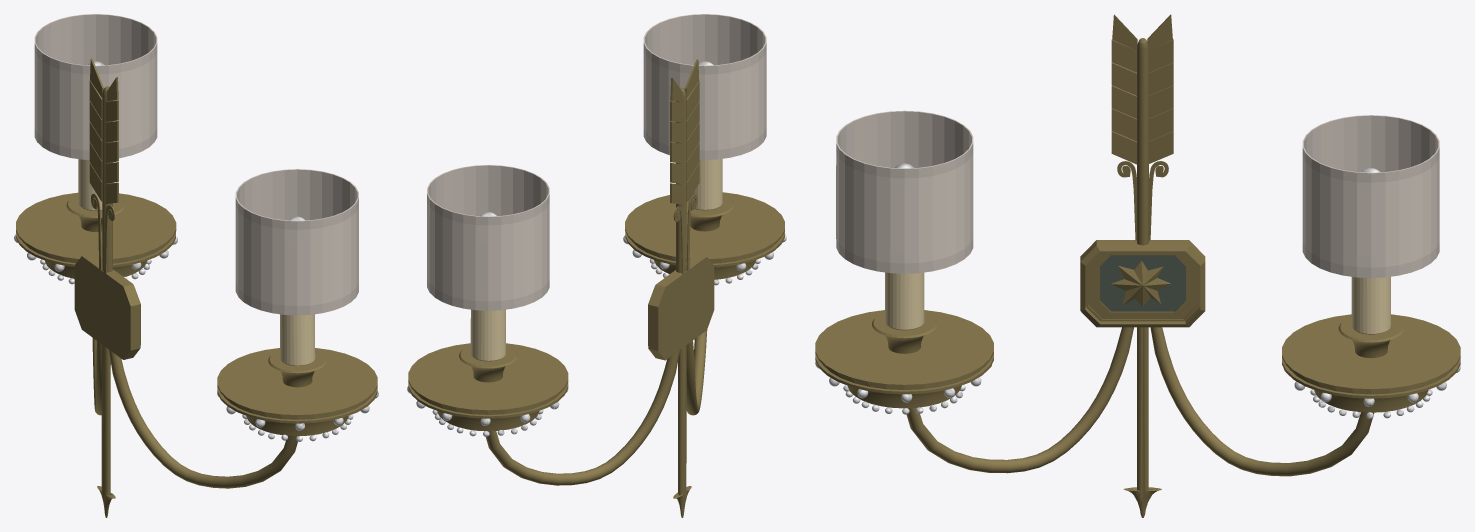
File: Wall Light.fbx
3 renders of one model, left to right at view 1: azimuth 30°, elevation 25°; view 2: azimuth 150°, elevation 25°; view 3: azimuth 270°, elevation 25°, orthographic. The views are drawn at different scales.
Visible parts, largest first — view 1: polySurface9; view 2: polySurface9; view 3: polySurface9.
Part boxes in pixels (x1,y1,x2,y2): polySurface9: (14, 14, 378, 517); polySurface9: (407, 14, 786, 517); polySurface9: (815, 14, 1460, 517).
Bounding box in the file's own units: 7.86 × 20.39 × 23.76.
7 materials, 2 textured.
